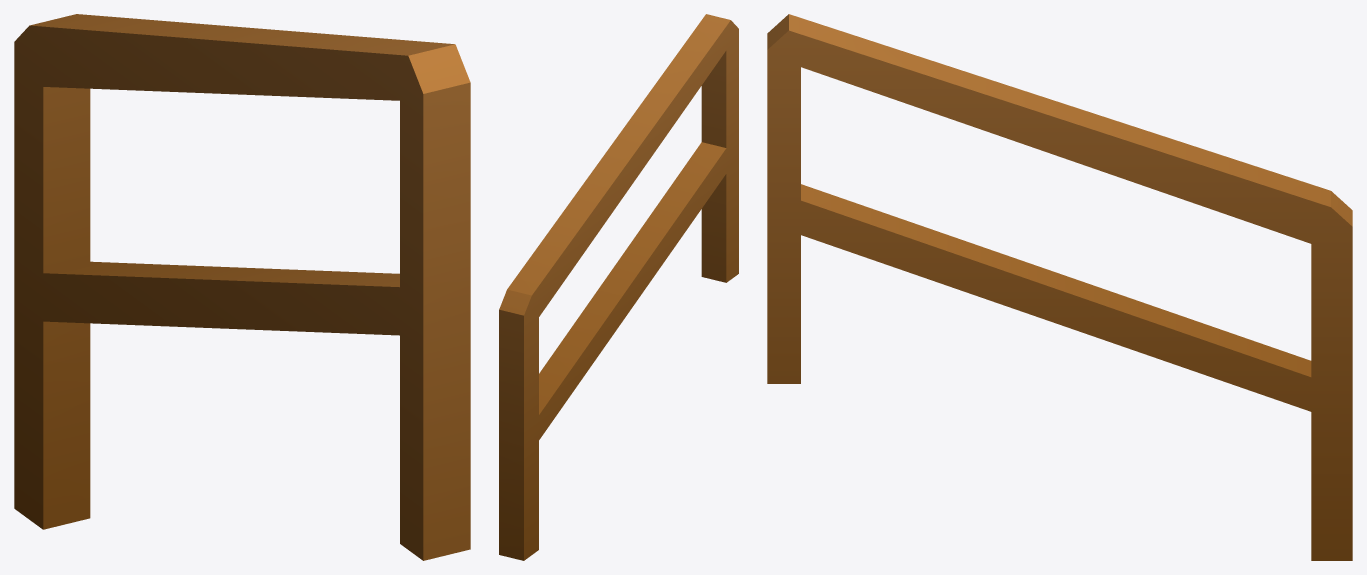
File: Fence_Diagonal.fbx
The picture shows the model from 3 angles, left to right: view 1: azimuth 30°, elevation 25°; view 2: azimuth 150°, elevation 25°; view 3: azimuth 270°, elevation 25°; orthographic projection. The views are drawn at different scales.
Parts seen in each view (by area): view 1: Fence_Diagonal; view 2: Fence_Diagonal; view 3: Fence_Diagonal.
Part boxes in pixels (x1,y1,x2,y2): Fence_Diagonal: (14, 14, 470, 560); Fence_Diagonal: (499, 14, 738, 560); Fence_Diagonal: (767, 14, 1352, 560).
Bounding box in the file's own units: 10 × 150 × 150.
